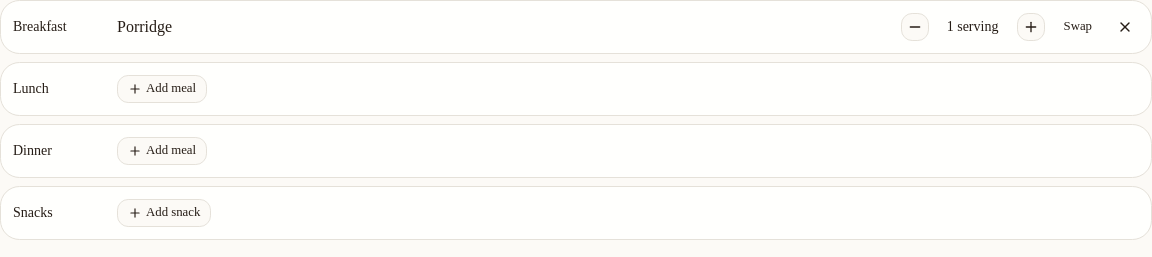
DayMeals › removes a meal
Click the button named "Remove Porridge from breakfast": (1125, 27) left=1111, top=13, right=1139, bottom=41
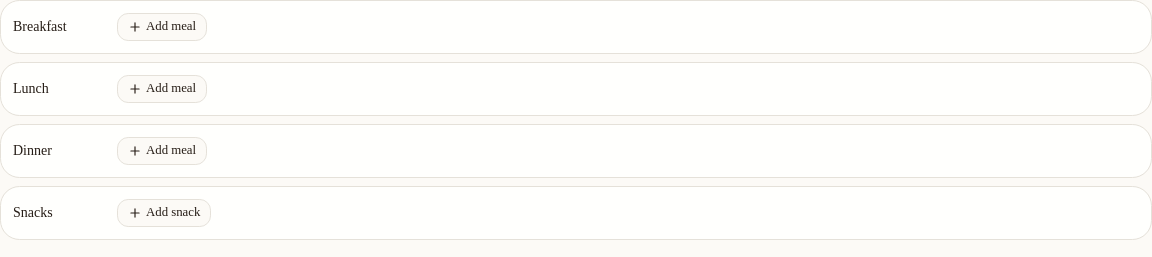
Now the link "Porridge" is gone
